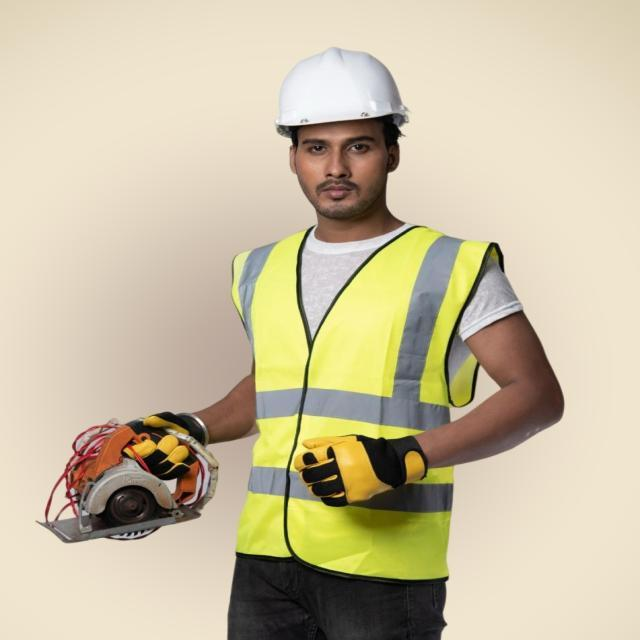helmet: (272, 60, 427, 149)
jacket: (241, 237, 466, 572)
